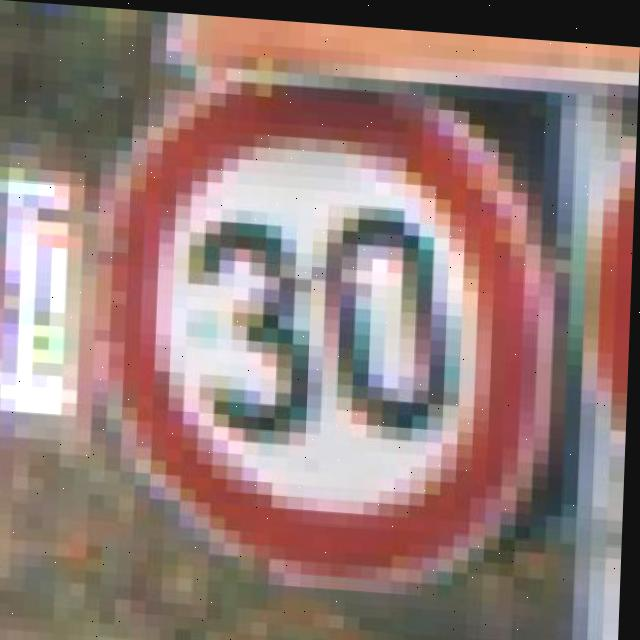Speed limit 30: (124, 60, 563, 589)
